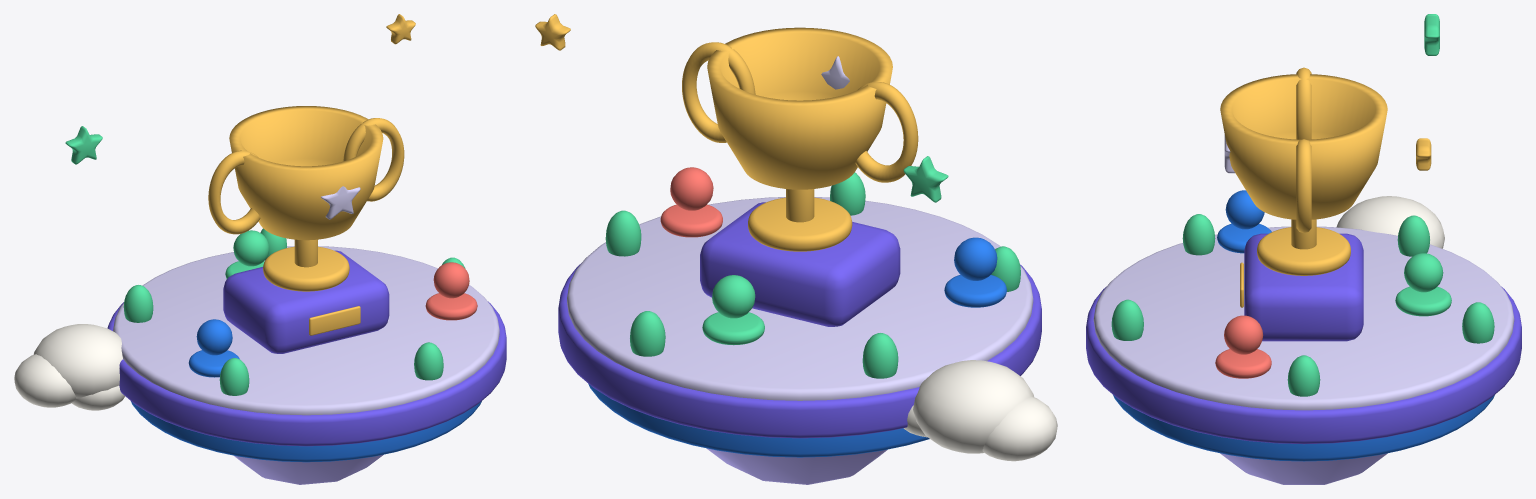
The model's file is trophy.glb.
The picture shows the model from 3 angles, left to right: view 1: azimuth 30°, elevation 25°; view 2: azimuth 150°, elevation 25°; view 3: azimuth 270°, elevation 25°; orthographic projection. The views are drawn at different scales.
Parts seen in each view (by area): view 1: Island pale top, Golden cup, Island violet rim, Trophy pedestal, Island blue underside, Cloud.001, Trophy foot, Floating rock, Cloud, Trophy handle.001, Trophy handle, Player marker.001 (+13 smaller); view 2: Island pale top, Golden cup, Island violet rim, Trophy pedestal, Cloud.001, Island blue underside, Trophy foot, Floating rock, Cloud, Trophy handle.001, Trophy handle, Player marker.002 (+13 smaller); view 3: Island pale top, Golden cup, Island violet rim, Trophy pedestal, Island blue underside, Trophy foot, Floating rock, Cloud.001, Trophy handle.001, Player marker, Player marker.001, Player avatar.001 (+12 smaller).
Part boxes in pixels (<box>): Island pale top: <box>113,246,499,415</box>; Golden cup: <box>229,106,383,240</box>; Island violet rim: <box>107,301,506,446</box>; Trophy pedestal: <box>223,250,389,353</box>; Island blue underside: <box>131,401,481,462</box>; Cloud.001: <box>33,324,122,398</box>; Trophy foot: <box>263,246,349,291</box>; Floating rock: <box>234,454,383,484</box>; Cloud: <box>14,354,76,407</box>; Trophy handle.001: <box>343,118,404,201</box>; Trophy handle: <box>208,150,260,234</box>; Player marker.001: <box>425,293,477,320</box>; Island pale top: <box>567,197,1033,400</box>; Golden cup: <box>707,27,892,189</box>; Island violet rim: <box>558,263,1041,438</box>; Trophy pedestal: <box>700,202,900,326</box>; Cloud.001: <box>913,360,1033,453</box>; Island blue underside: <box>588,383,929,457</box>; Trophy foot: <box>748,197,852,251</box>; Floating rock: <box>706,448,887,484</box>; Cloud: <box>982,396,1057,461</box>; Trophy handle.001: <box>682,42,755,142</box>; Trophy handle: <box>855,82,918,182</box>; Player marker.002: <box>944,275,1006,307</box>; Island pale top: <box>1093,226,1514,410</box>; Golden cup: <box>1220,74,1387,219</box>; Island violet rim: <box>1086,286,1521,444</box>; Trophy pedestal: <box>1244,233,1363,341</box>; Island blue underside: <box>1113,395,1494,461</box>; Trophy foot: <box>1257,227,1350,275</box>; Floating rock: <box>1220,453,1387,484</box>; Cloud.001: <box>1336,196,1444,248</box>; Trophy handle.001: <box>1296,139,1311,232</box>; Player marker: <box>1395,286,1451,316</box>; Player marker.001: <box>1215,349,1271,378</box>; Player avatar.001: <box>1224,315,1263,354</box>.
Bounding box in the file's own units: 6.2 × 5.2 × 5.1.
